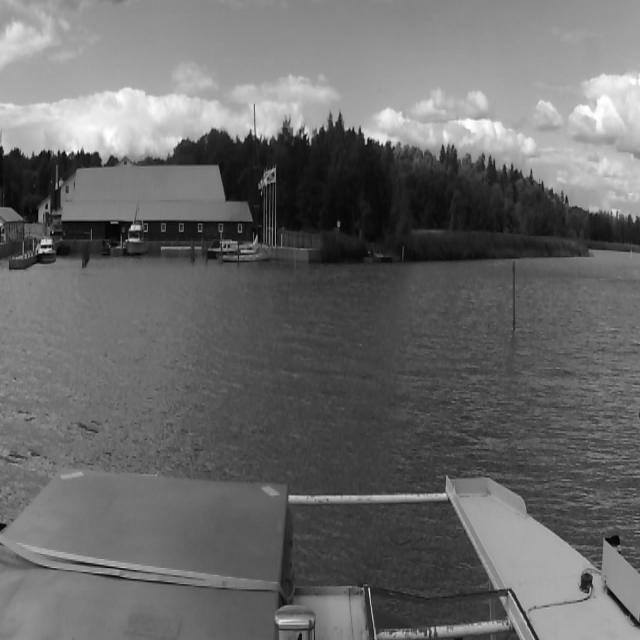buoy: (512, 260, 518, 328)
ship: (218, 102, 262, 268), (126, 222, 144, 256), (38, 238, 54, 262)
